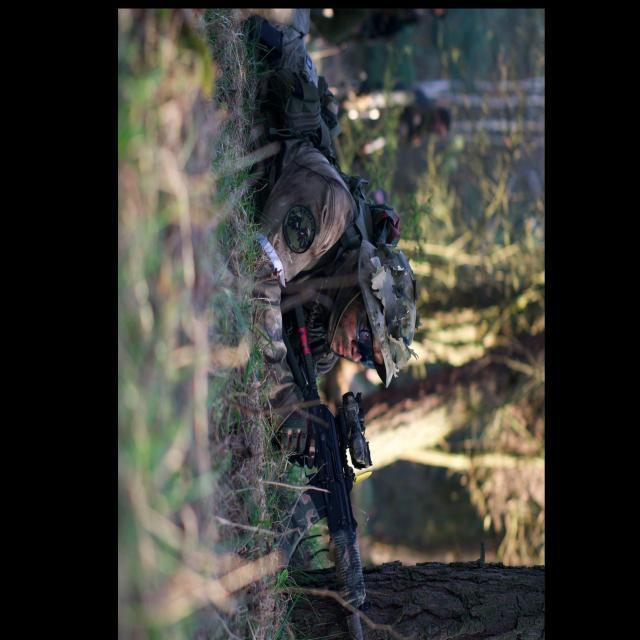Rifle: (281, 290, 373, 640)
